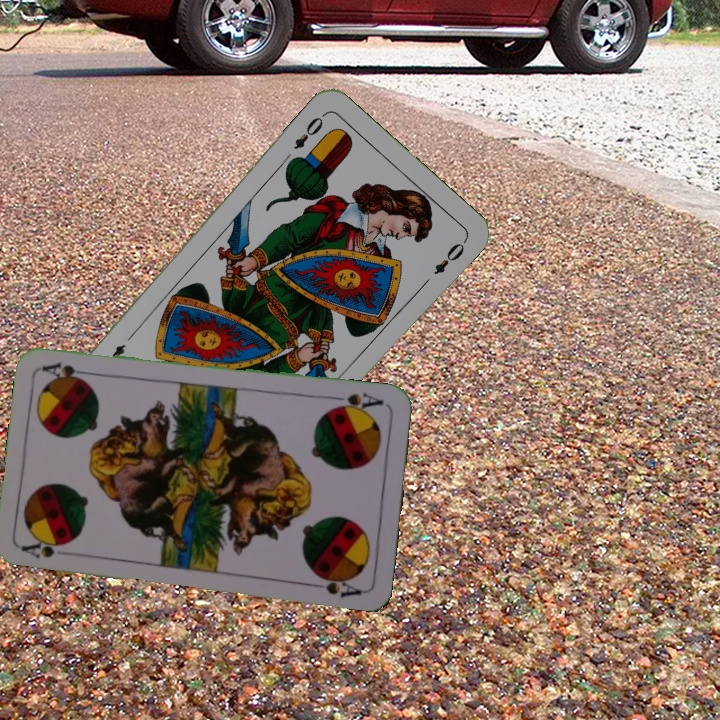EO: (289, 109, 328, 152)
SA: (327, 389, 387, 416), (18, 536, 72, 562)
